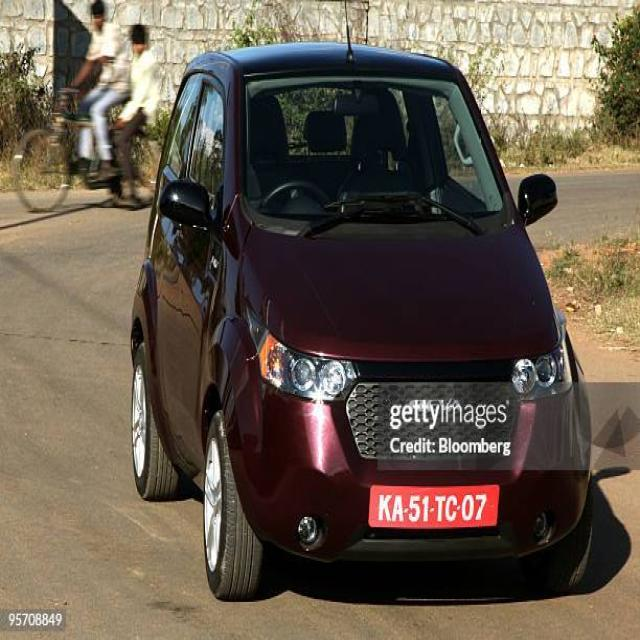plate: (366, 482, 500, 530)
